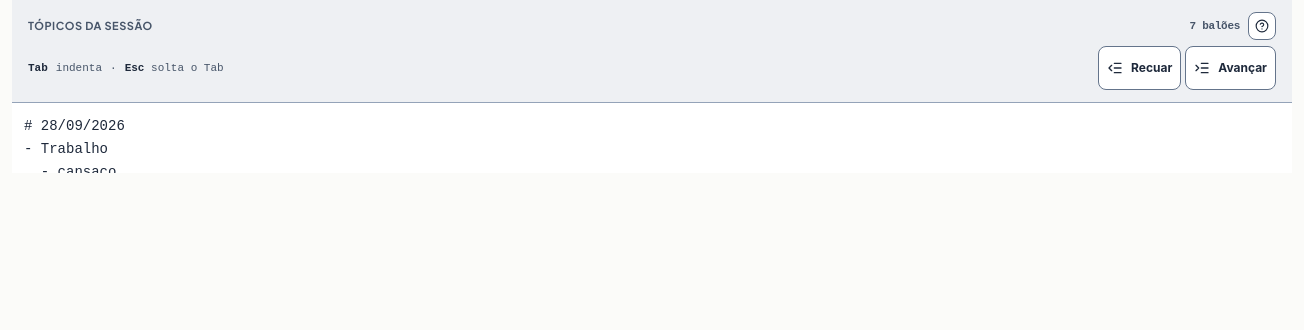
Scenario: the help disclosure › the button says whether it is open
Click the button named "Como escrever e mover tópicos" at [1262, 26], box [1248,12,1276,40]
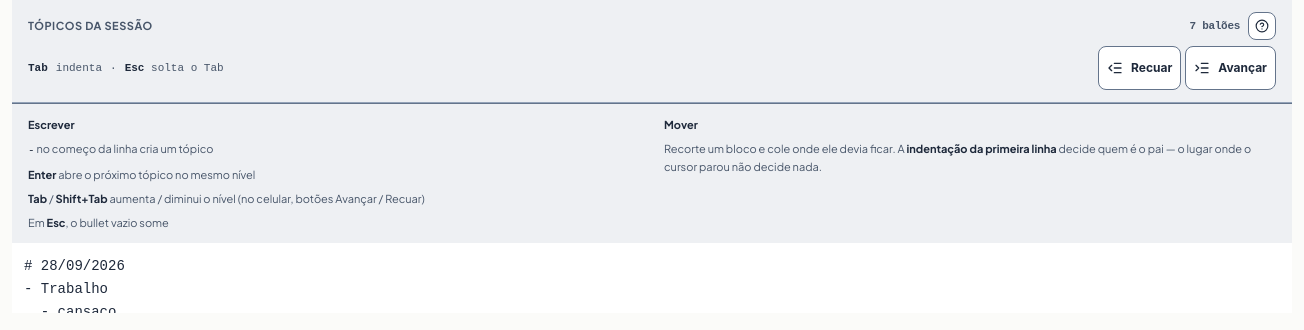
Result: the element with id "buffer-help" is shown at [12,103,1292,243]
